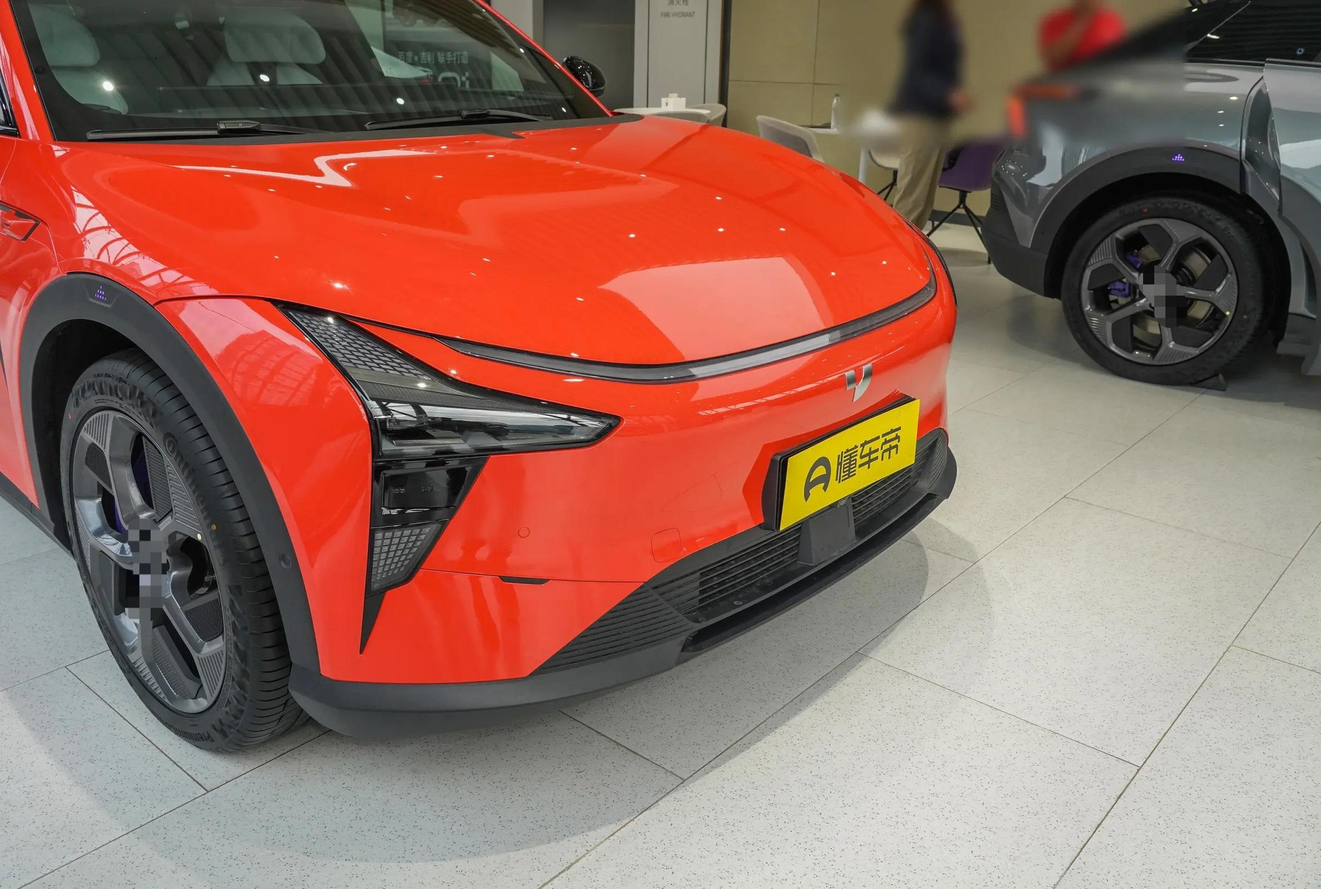JIYUE: (844, 363, 872, 402)
